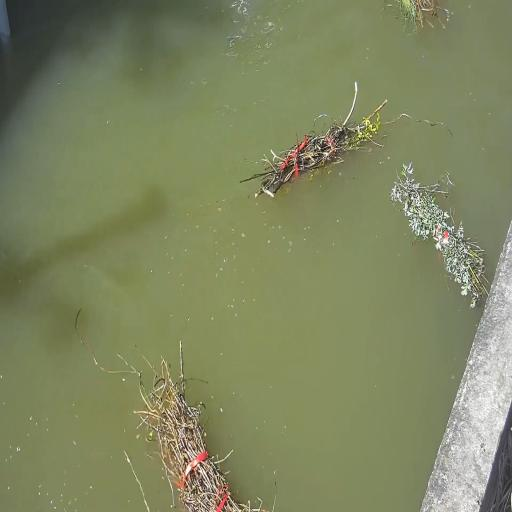twig: (134, 341, 267, 512), (241, 82, 386, 197), (390, 163, 487, 307), (394, 0, 449, 33)
